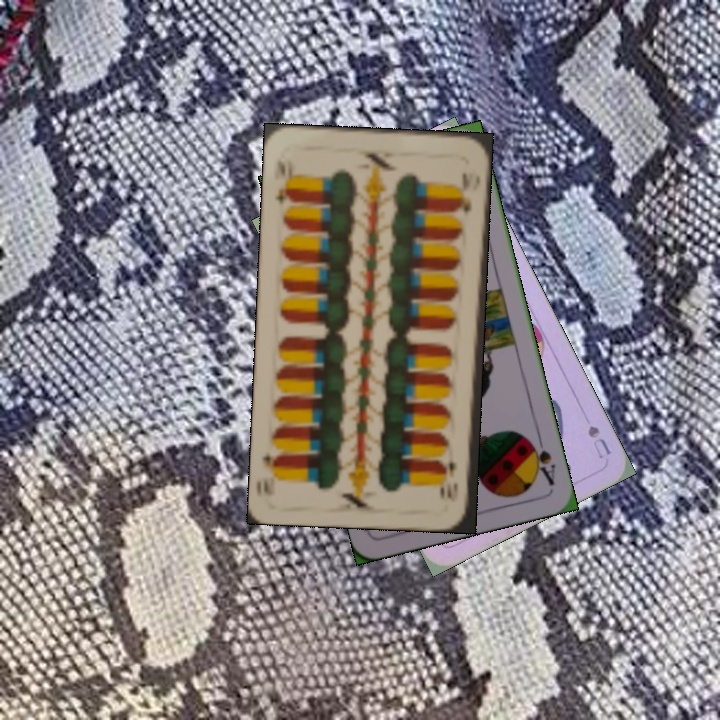E10: (271, 156, 295, 207), (442, 457, 461, 504)
SA: (524, 430, 559, 489)
SU: (583, 421, 614, 462)
